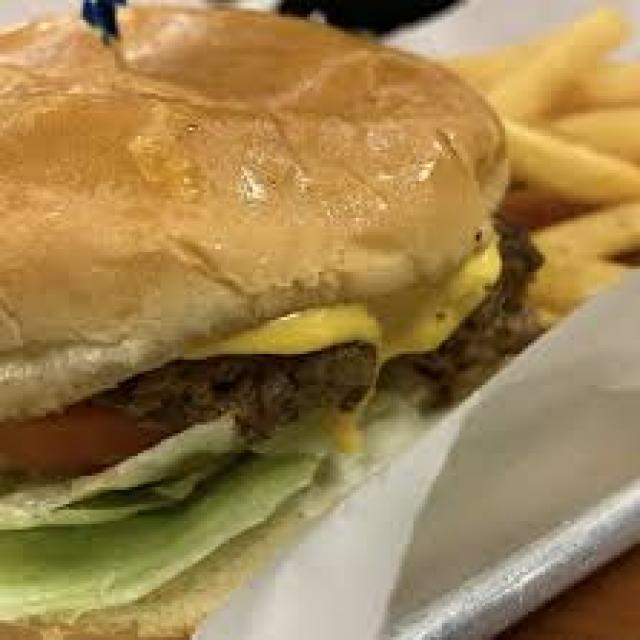Burger: (0, 0, 531, 629)
French Fries: (451, 3, 637, 297)
